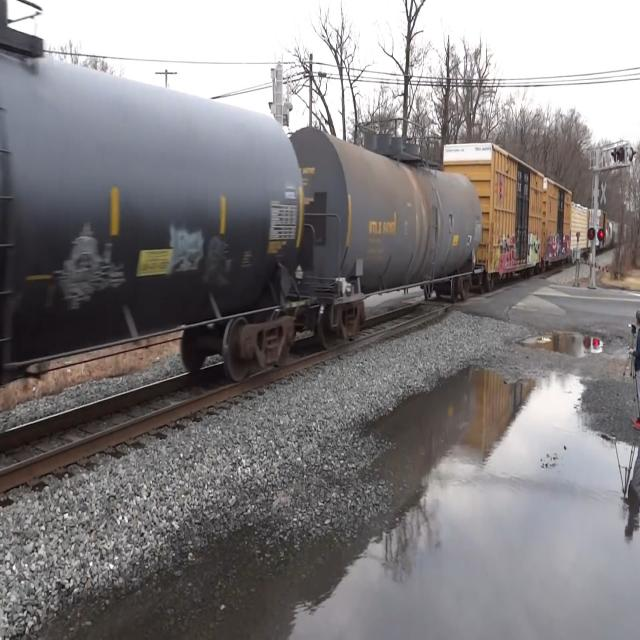boxcar: (443, 132, 546, 284)
tank: (0, 28, 310, 412), (289, 120, 488, 355)
